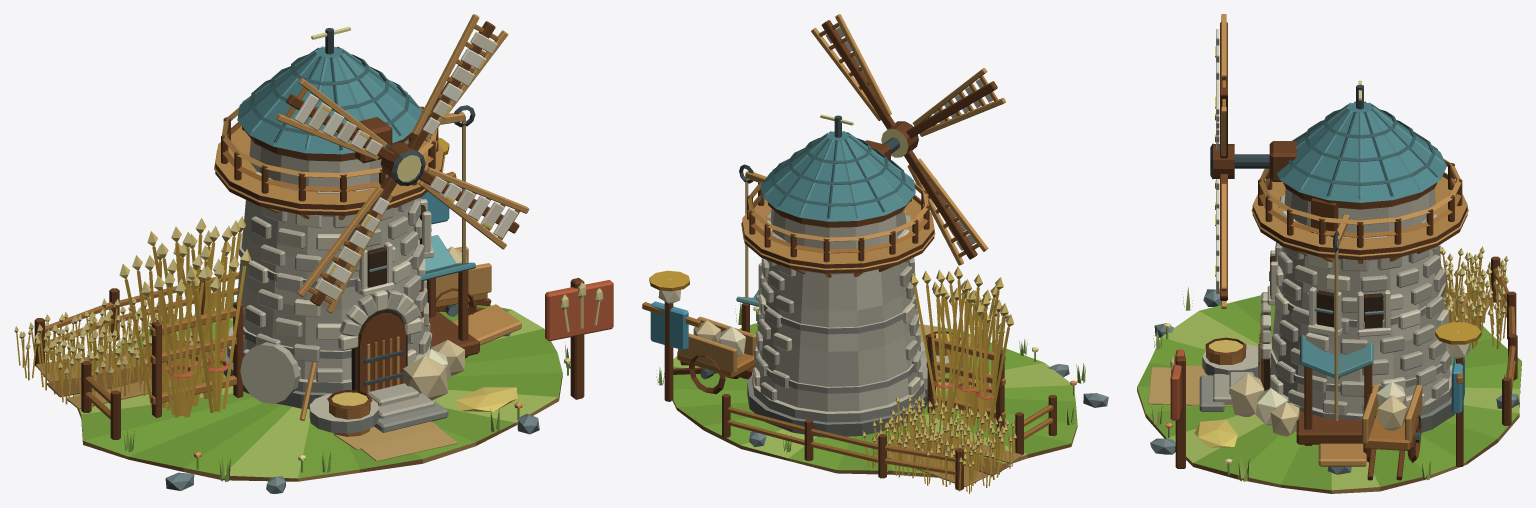
File: hegemony-wheat-farm-high-d1437bc1cfe81ee.glb
3 views of the same model, side by side, from view 1: azimuth 30°, elevation 25°; view 2: azimuth 150°, elevation 25°; view 3: azimuth 270°, elevation 25° (orthographic). The views are drawn at different scales.
Visible parts, largest first — view 1: WK_WheatFarm_LOD0_High; view 2: WK_WheatFarm_LOD0_High; view 3: WK_WheatFarm_LOD0_High.
Boxes of the visible parts, left/top/right/bottom form: WK_WheatFarm_LOD0_High: left=14, top=14, right=613, bottom=493; WK_WheatFarm_LOD0_High: left=642, top=14, right=1108, bottom=493; WK_WheatFarm_LOD0_High: left=1137, top=14, right=1521, bottom=493.
Size of the model in its own units: 12.46 by 10.33 by 9.66.
